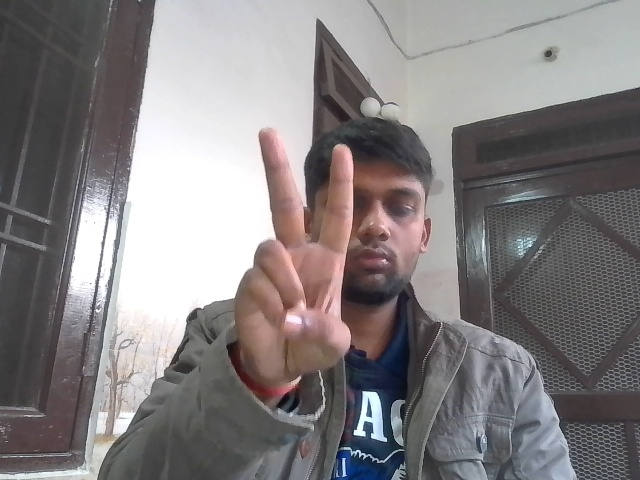Enjoy: (226, 122, 365, 389)
